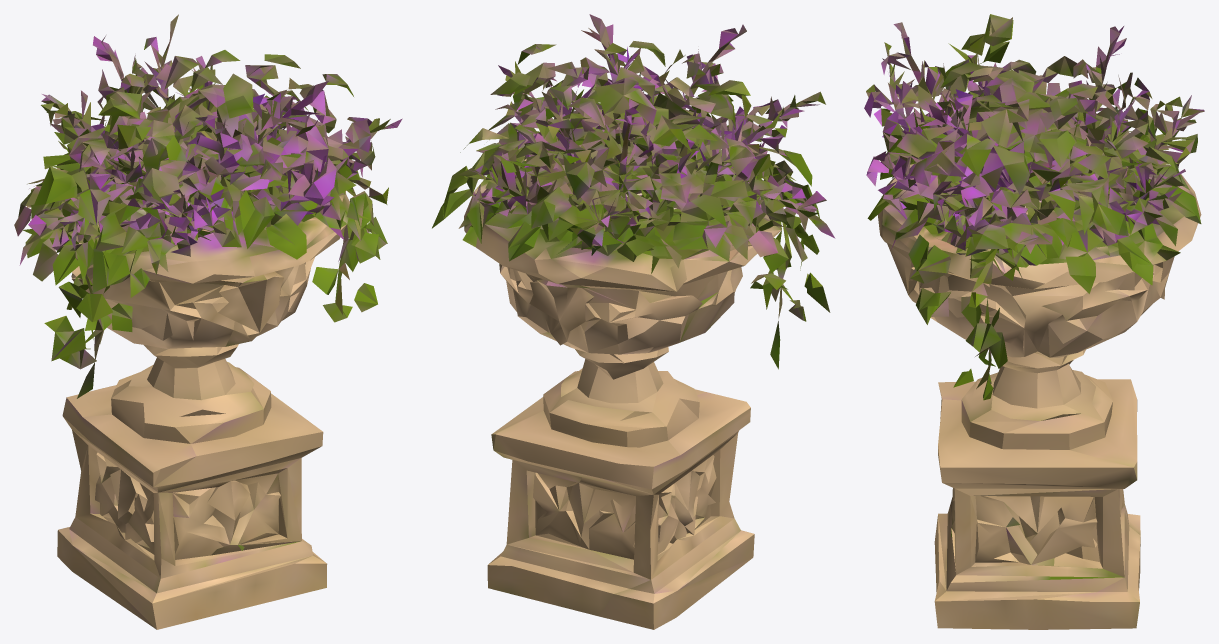
The model's file is iso-urn.glb.
The picture shows the model from 3 angles, left to right: view 1: azimuth 30°, elevation 25°; view 2: azimuth 150°, elevation 25°; view 3: azimuth 270°, elevation 25°; orthographic projection. The views are drawn at different scales.
Parts seen in each view (by area): view 1: Mesh_0; view 2: Mesh_0; view 3: Mesh_0.
Part boxes in pixels (<box>): Mesh_0: <box>14,14,402,629</box>; Mesh_0: <box>432,14,835,629</box>; Mesh_0: <box>864,14,1204,629</box>.
Size of the model in its own units: 1.37 by 1.89 by 1.09.
Materials: 1 (1 with a texture image).
